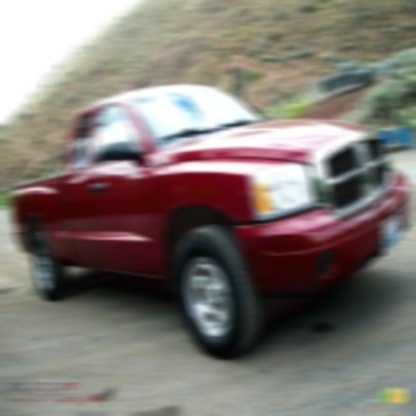Vehicle: (11, 85, 413, 362)
